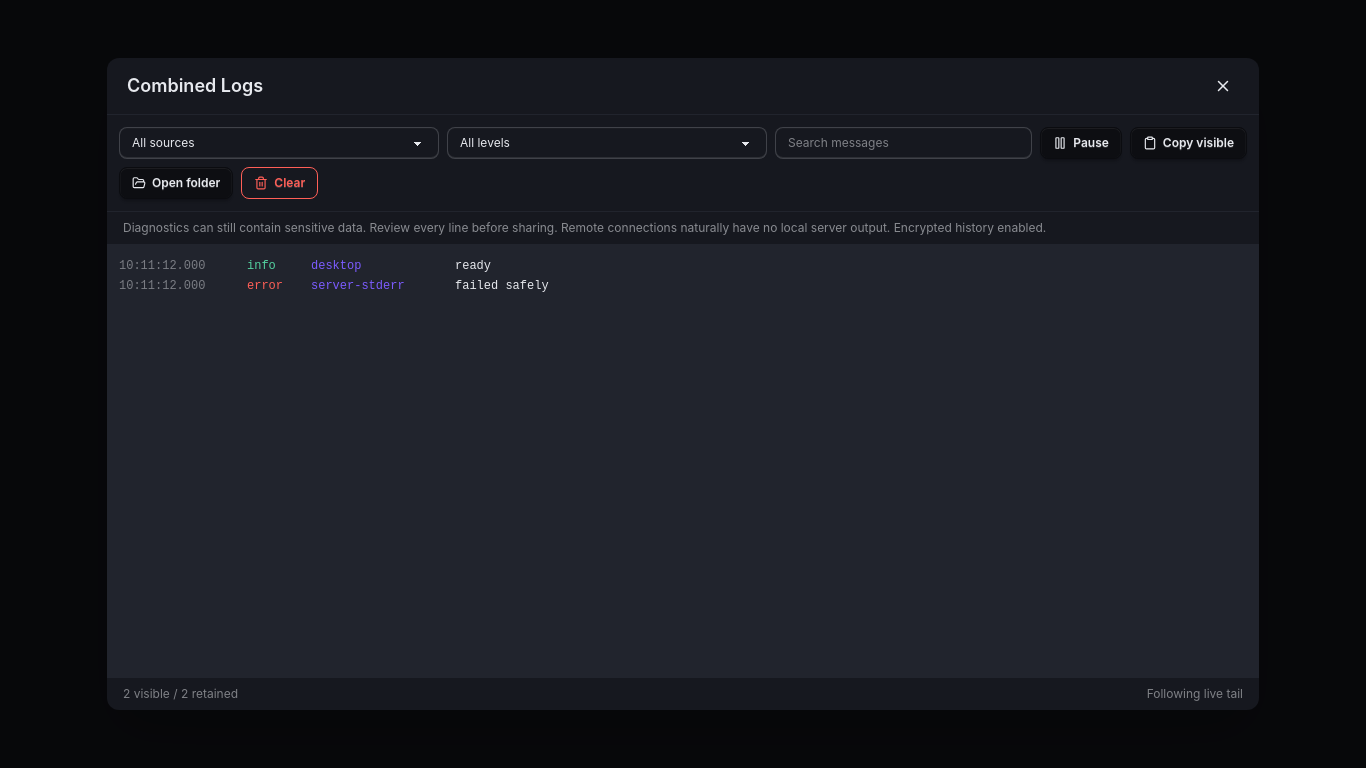
Test case: LogsModal › reports clipboard failures
The image size is (1366, 768).
Expected: the text "ready" is shown, [455,259,491,273]
Click the button "Copy visible".
click(1188, 143)  # box [1130,127,1247,159]
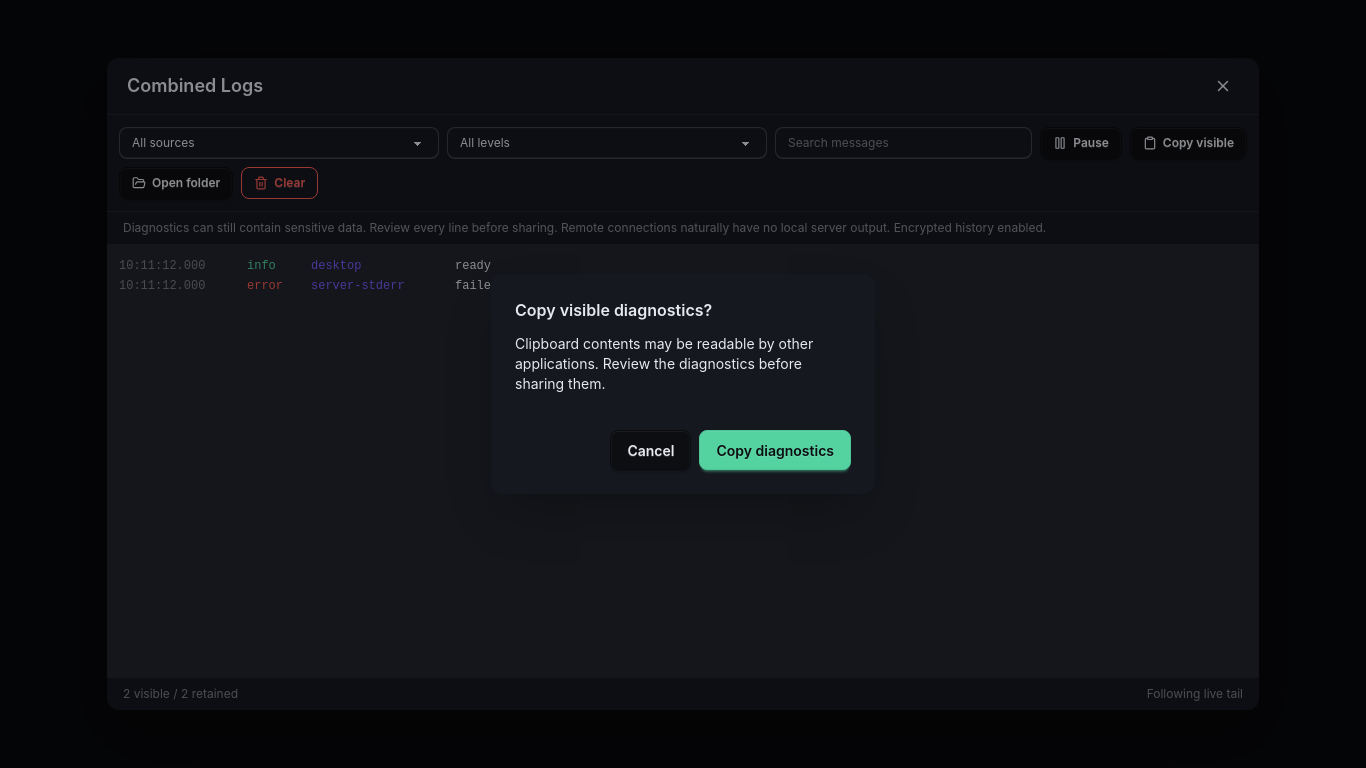
Click the button "Copy diagnostics".
click(775, 450)  # box [700,430,851,470]
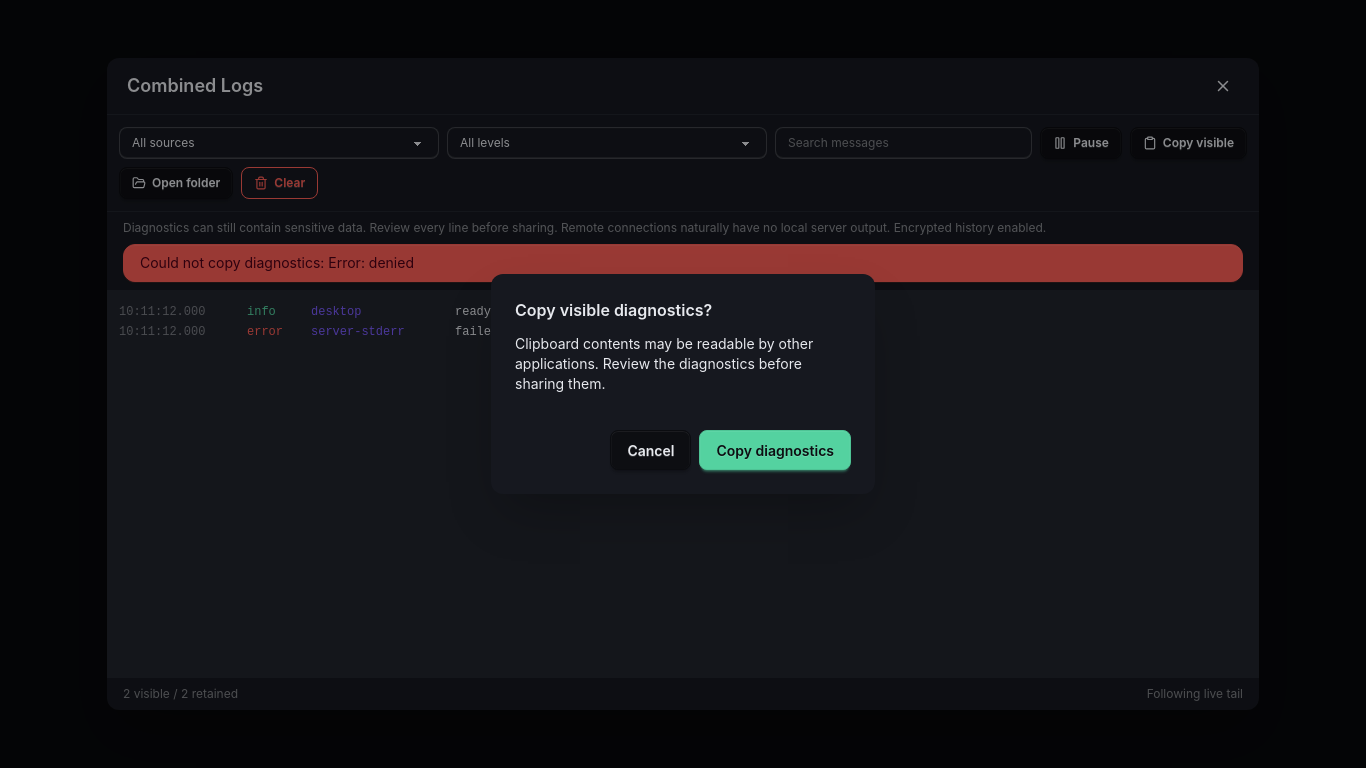
Result: the text "Could not copy diagnostics: Error: denied" is shown at [123,244,1243,282]
